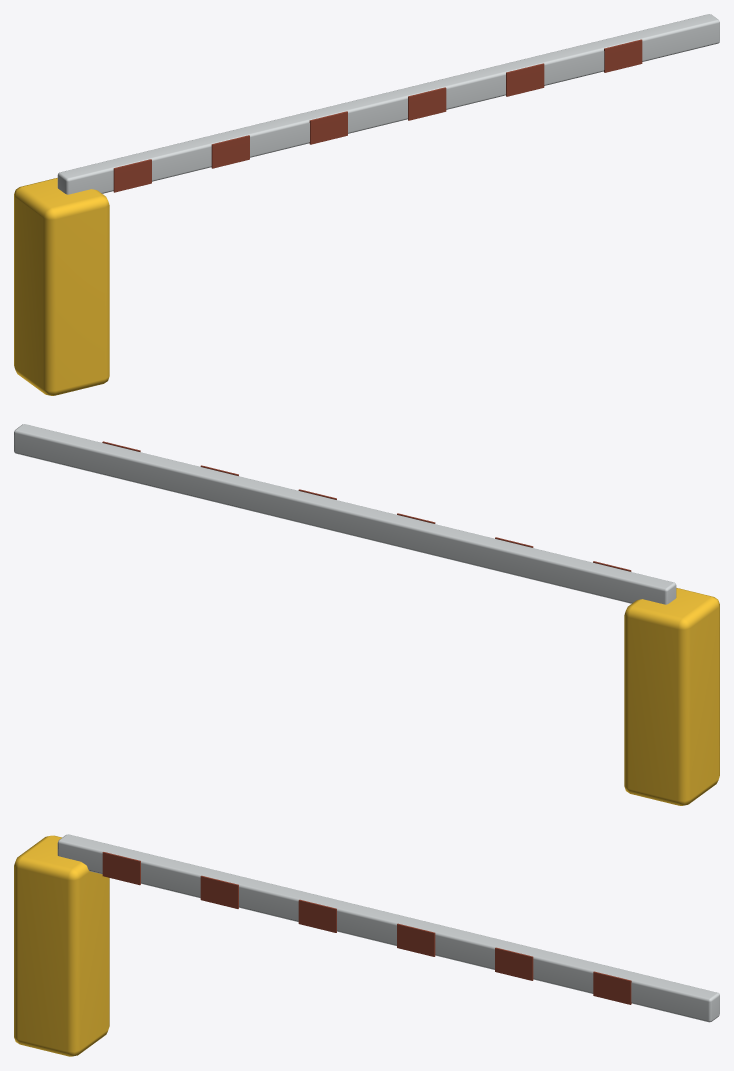
File: SM_SecurityBarrier.fbx
The picture shows the model from 3 angles, top to bottom: view 1: azimuth 30°, elevation 25°; view 2: azimuth 150°, elevation 25°; view 3: azimuth 330°, elevation 25°; orthographic projection.
Visible parts, largest first — view 1: SM_SecurityBarrier; view 2: SM_SecurityBarrier; view 3: SM_SecurityBarrier.
Boxes of the visible parts, box(x1,y1,x2,y2) form: SM_SecurityBarrier: box(14, 14, 719, 395); SM_SecurityBarrier: box(14, 424, 719, 805); SM_SecurityBarrier: box(14, 834, 719, 1056).
Size of the model in its own units: 420 by 40 by 119.
